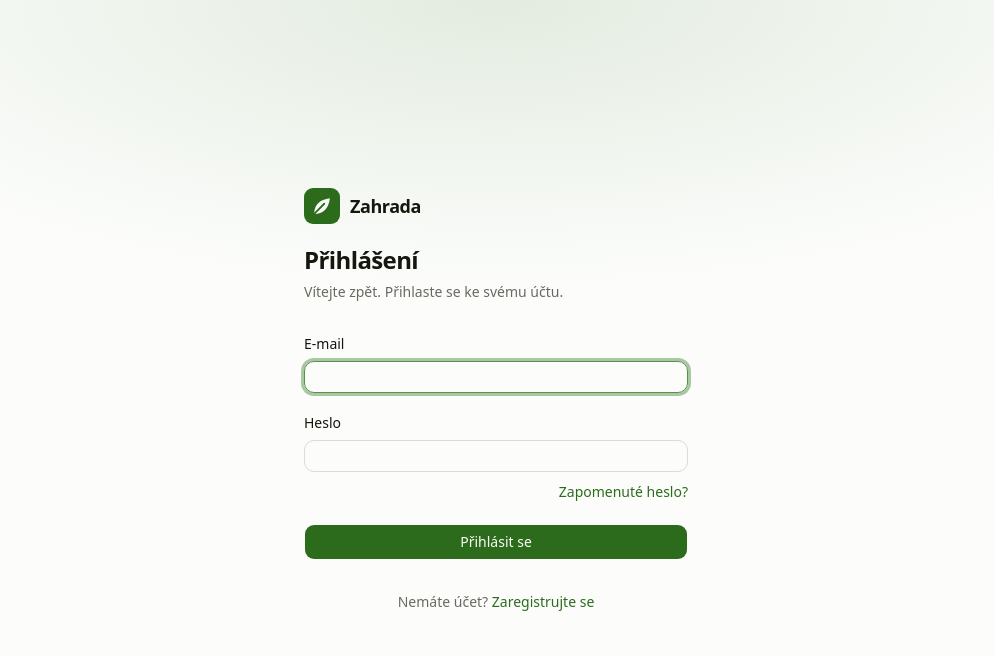
Test: přihlášení › validuje pole a špatné heslo ukáže česky
Click the button "Přihlásit se". click: click(496, 542)
box: [304,524,688,560]
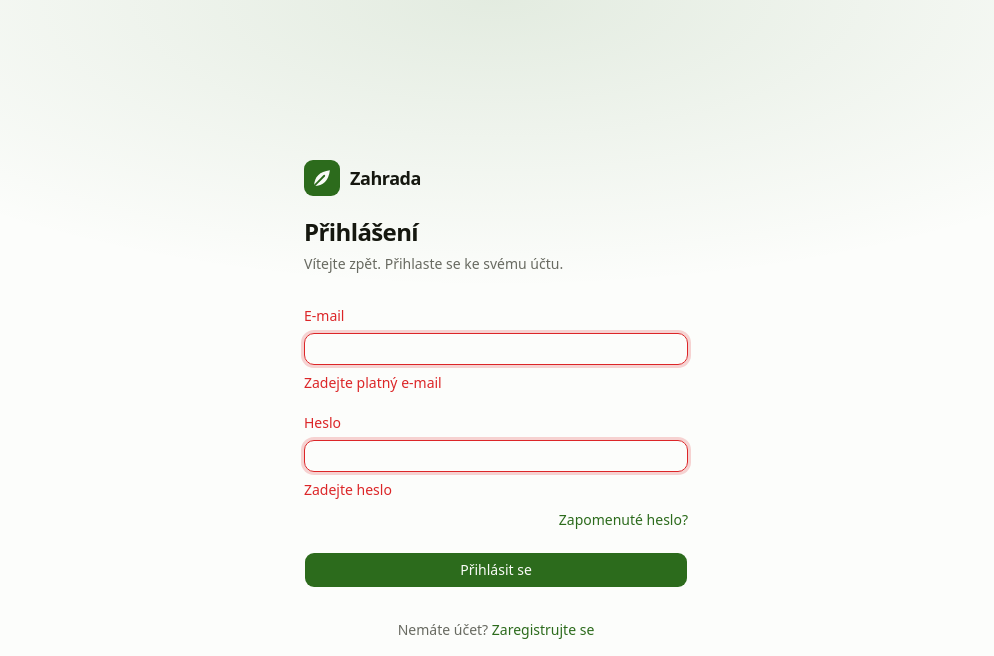
Expected: the text "Zadejte platný e-mail" is shown, [304,373,442,392]
Expected: the text "Zadejte heslo" is shown, [304,480,392,499]
Type "jan@example.cz" into the field labelled "E-mail". click: (496, 349)
box: [304,333,688,365]
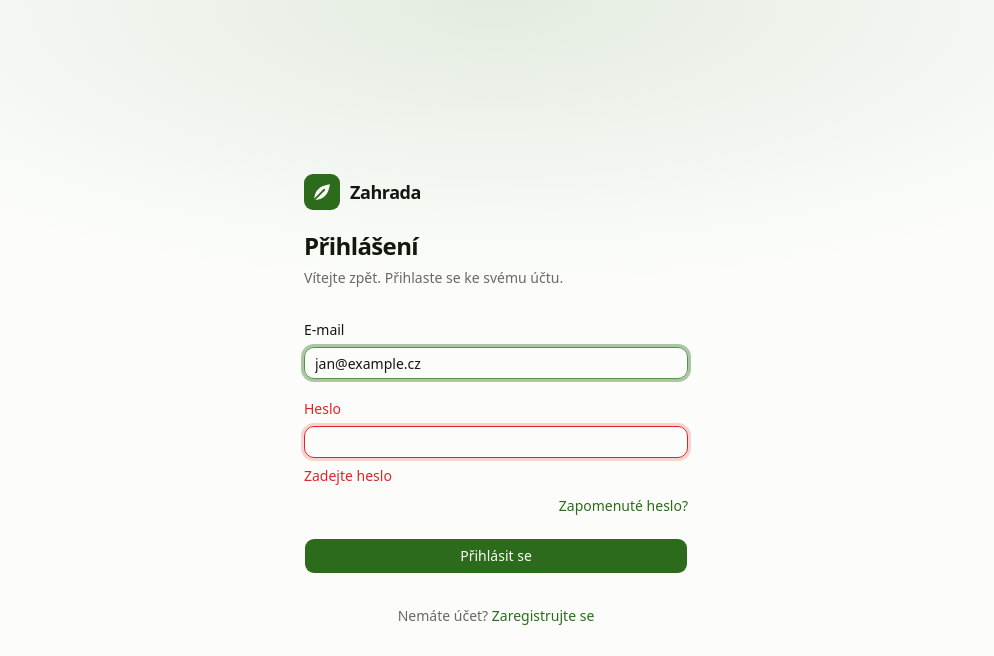
Type "spatne" into the password field labelled "Heslo". click: (496, 442)
box: [304,426,688,458]
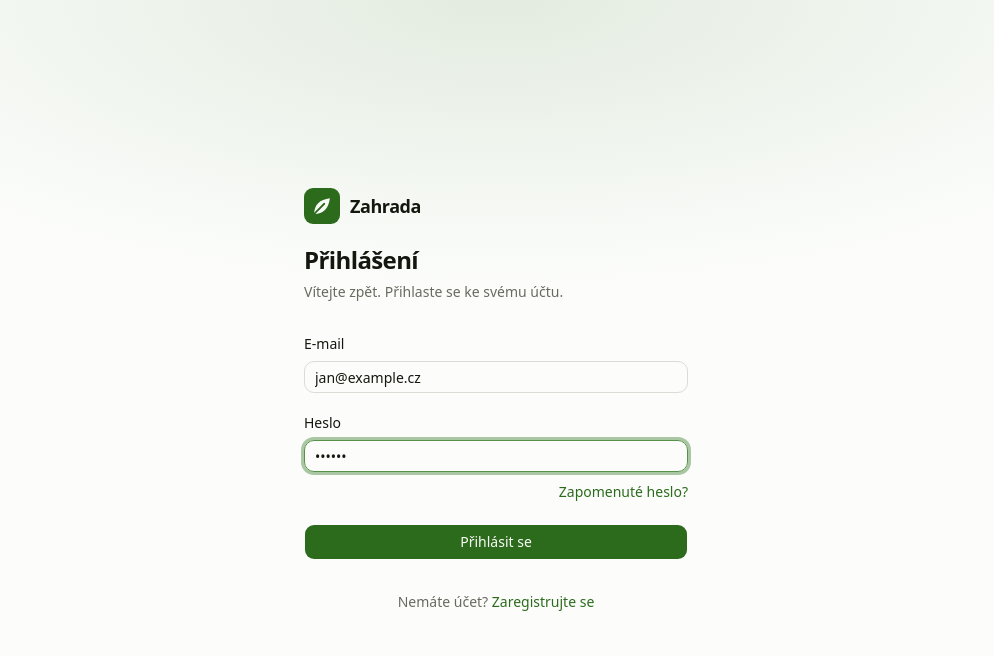
Click the button "Přihlásit se". click: click(496, 542)
box: [304,524,688,560]
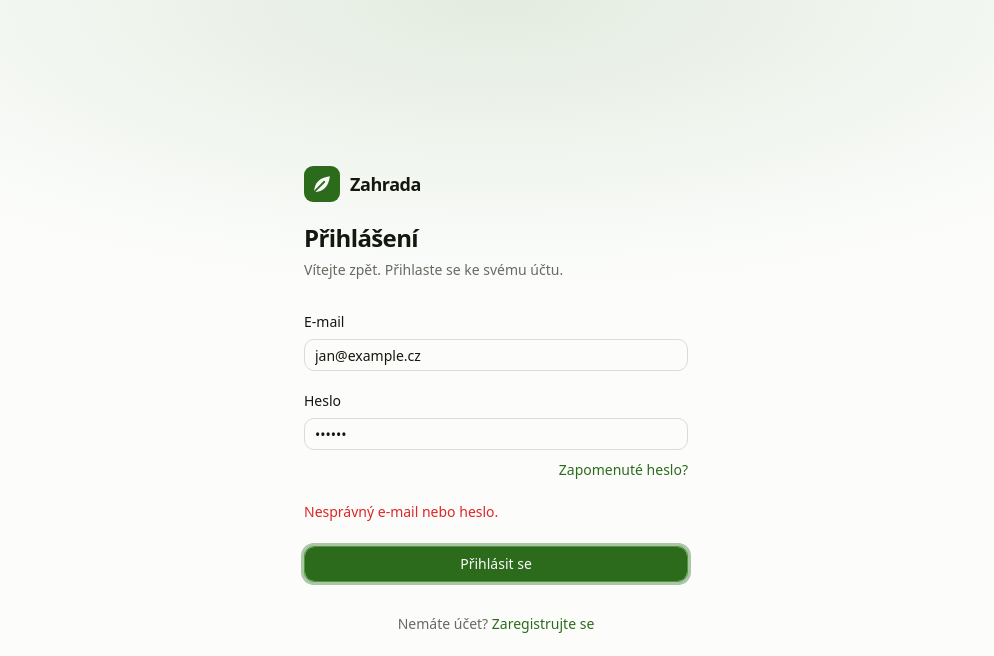
Expected: the message reads "Nesprávný e-mail nebo heslo.", [304,502,498,521]
